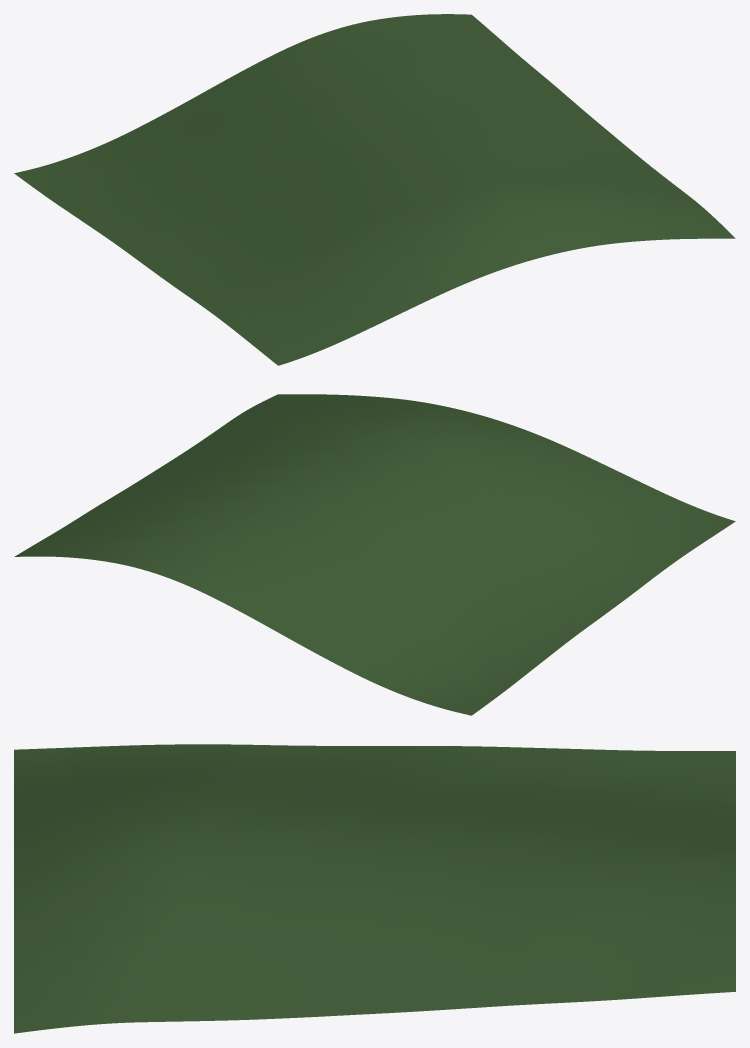
The model's file is chunk0-1_LOD0.obj.
The picture shows the model from 3 angles, top to bottom: view 1: azimuth 30°, elevation 25°; view 2: azimuth 150°, elevation 25°; view 3: azimuth 270°, elevation 25°; orthographic projection. The views are drawn at different scales.
Visible parts, largest first — view 1: Terrain; view 2: Terrain; view 3: Terrain.
Boxes of the visible parts, <box> form: Terrain: <box>14,14,735,365</box>; Terrain: <box>14,394,735,715</box>; Terrain: <box>14,744,735,1033</box>.
Size of the model in its own units: 4000 by 553 by 4000.
